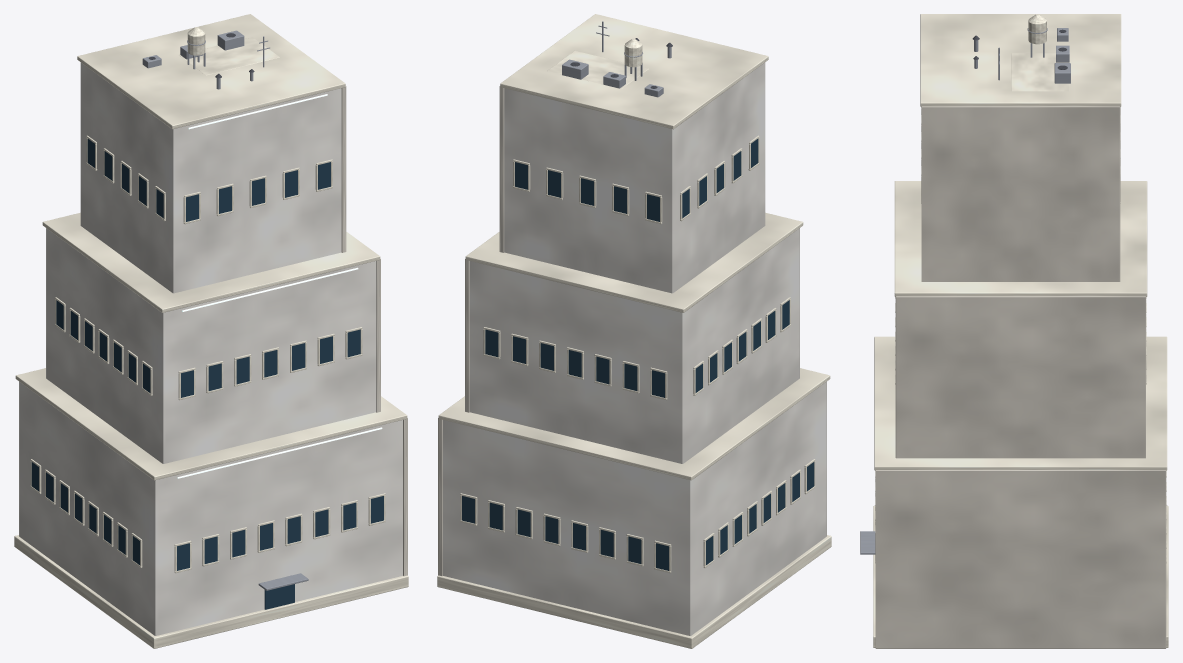
Rendered from bldg_white_landmark.glb.
3 views of the same model, side by side, from view 1: azimuth 30°, elevation 25°; view 2: azimuth 150°, elevation 25°; view 3: azimuth 270°, elevation 25° (orthographic). The views are drawn at different scales.
Visible parts, largest first — view 1: bldg_white_landmark_band_0_wall, bldg_white_landmark_band_1_wall, bldg_white_landmark_band_2_wall, bldg_white_landmark_band_2_cornice, bldg_white_landmark_band_1_cornice, bldg_white_landmark_band_0_cornice, bldg_white_landmark_plinth, bldg_white_landmark_roof_curb, bldg_white_landmark_band_2_pilaster, bldg_white_landmark_band_0_pilaster, bldg_white_landmark_band_1_pilaster, bldg_white_landmark_entrance; view 2: bldg_white_landmark_band_0_wall, bldg_white_landmark_band_1_wall, bldg_white_landmark_band_2_wall, bldg_white_landmark_band_2_cornice, bldg_white_landmark_band_1_cornice, bldg_white_landmark_band_0_cornice, bldg_white_landmark_plinth, bldg_white_landmark_roof_curb, bldg_white_landmark_band_2_pilaster, bldg_white_landmark_band_0_pilaster, bldg_white_landmark_band_1_pilaster; view 3: bldg_white_landmark_band_0_pilaster, bldg_white_landmark_band_1_pilaster, bldg_white_landmark_band_2_pilaster, bldg_white_landmark_band_2_cornice, bldg_white_landmark_band_1_cornice, bldg_white_landmark_band_0_cornice, bldg_white_landmark_roof_curb, bldg_white_landmark_plinth.
Boxes of the visible parts, x1,y1,x2,y2 form: bldg_white_landmark_band_0_wall: [19, 381, 402, 635]; bldg_white_landmark_band_1_wall: [46, 228, 376, 463]; bldg_white_landmark_band_2_wall: [80, 62, 341, 293]; bldg_white_landmark_band_2_cornice: [77, 14, 345, 129]; bldg_white_landmark_band_1_cornice: [42, 212, 380, 312]; bldg_white_landmark_band_0_cornice: [15, 368, 407, 480]; bldg_white_landmark_plinth: [14, 535, 408, 648]; bldg_white_landmark_roof_curb: [178, 37, 279, 75]; bldg_white_landmark_band_2_pilaster: [341, 86, 346, 252]; bldg_white_landmark_band_0_pilaster: [403, 418, 407, 575]; bldg_white_landmark_band_1_pilaster: [376, 259, 380, 412]; bldg_white_landmark_entrance: [264, 584, 294, 609]; bldg_white_landmark_band_0_wall: [443, 381, 826, 635]; bldg_white_landmark_band_1_wall: [469, 228, 799, 463]; bldg_white_landmark_band_2_wall: [504, 62, 765, 293]; bldg_white_landmark_band_2_cornice: [500, 14, 768, 129]; bldg_white_landmark_band_1_cornice: [465, 212, 803, 312]; bldg_white_landmark_band_0_cornice: [438, 368, 830, 480]; bldg_white_landmark_plinth: [437, 535, 831, 648]; bldg_white_landmark_roof_curb: [547, 51, 648, 88]; bldg_white_landmark_band_2_pilaster: [499, 86, 504, 252]; bldg_white_landmark_band_0_pilaster: [438, 418, 442, 575]; bldg_white_landmark_band_1_pilaster: [465, 259, 469, 412]; bldg_white_landmark_band_0_pilaster: [875, 470, 1166, 648]; bldg_white_landmark_band_1_pilaster: [895, 296, 1145, 458]; bldg_white_landmark_band_2_pilaster: [921, 106, 1120, 281]; bldg_white_landmark_band_2_cornice: [920, 14, 1121, 106]; bldg_white_landmark_band_1_cornice: [894, 181, 1147, 296]; bldg_white_landmark_band_0_cornice: [874, 336, 1167, 470]; bldg_white_landmark_roof_curb: [1011, 53, 1069, 91]; bldg_white_landmark_plinth: [873, 505, 1168, 647].
Bounding box in the file's own units: 20.51 × 41.17 × 20.35.
7 materials, 7 textured.
